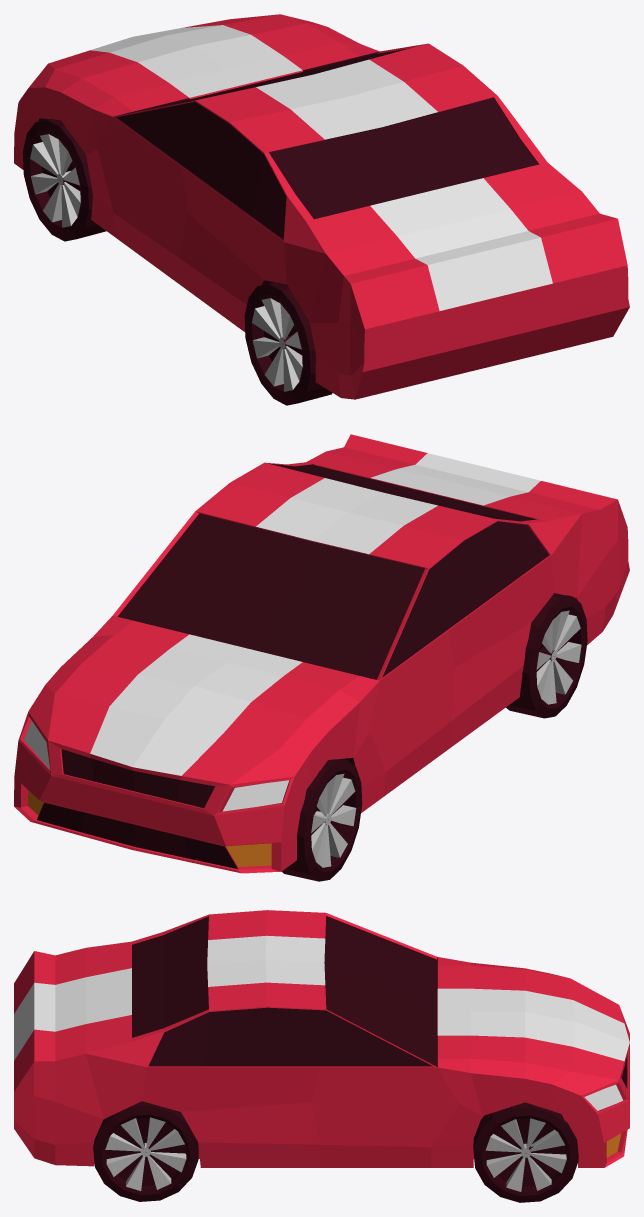
File: Car1.fbx
3 renders of one model, top to bottom at view 1: azimuth 30°, elevation 25°; view 2: azimuth 150°, elevation 25°; view 3: azimuth 270°, elevation 25°, orthographic. The views are drawn at different scales.
Visible parts, largest first — view 1: Cube, Cube.003, Cube.004; view 2: Cube, Cube.003, Cube.004; view 3: Cube, Cube.001, Cube.002.
Boxes of the visible parts, x1,y1,x2,y2 form: Cube: (14, 14, 629, 399); Cube.003: (244, 282, 332, 405); Cube.004: (22, 118, 106, 241); Cube: (14, 434, 629, 873); Cube.003: (506, 593, 587, 718); Cube.004: (281, 758, 362, 881); Cube: (14, 910, 629, 1167); Cube.001: (473, 1102, 578, 1202); Cube.002: (93, 1101, 198, 1201).
Bounding box in the file's own units: 197 × 145 × 435.
